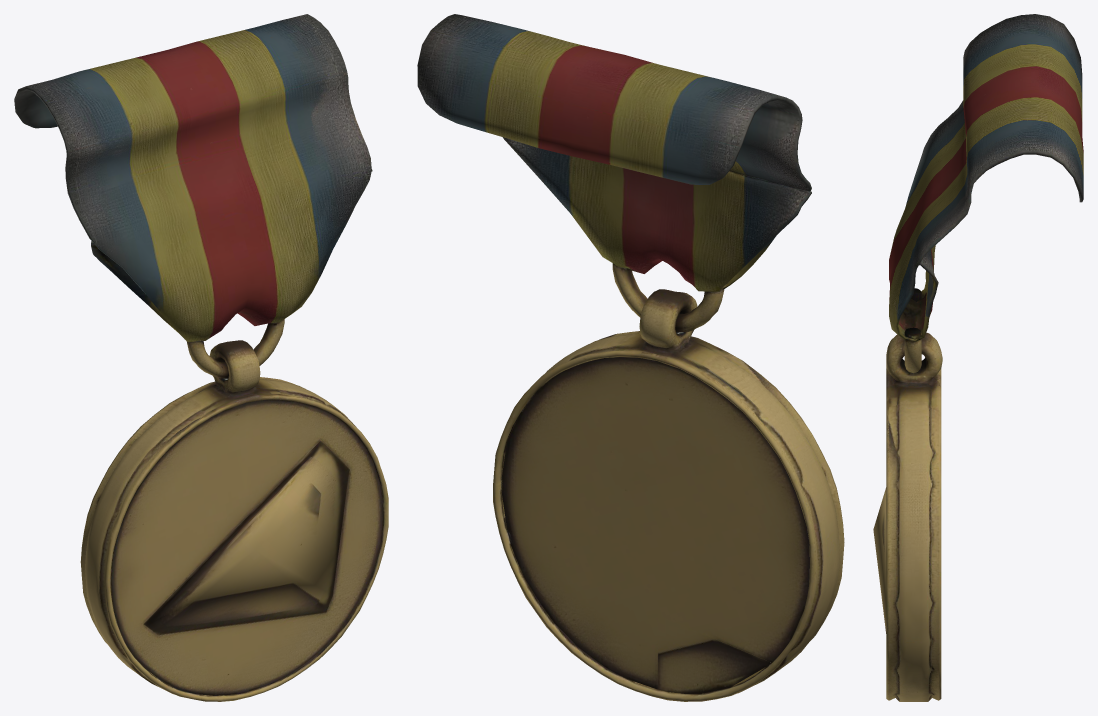
File: selected.glb
3 views of the same model, side by side, from view 1: azimuth 30°, elevation 25°; view 2: azimuth 150°, elevation 25°; view 3: azimuth 270°, elevation 25° (orthographic). The views are drawn at different scales.
Parts seen in each view (by area): view 1: tripo_node_3bc91f0a-8876-4d93-b8fb-235e316ece1b; view 2: tripo_node_3bc91f0a-8876-4d93-b8fb-235e316ece1b; view 3: tripo_node_3bc91f0a-8876-4d93-b8fb-235e316ece1b.
Boxes of the visible parts, x1=… form: tripo_node_3bc91f0a-8876-4d93-b8fb-235e316ece1b: x1=14, y1=14, x2=388, y2=701; tripo_node_3bc91f0a-8876-4d93-b8fb-235e316ece1b: x1=417, y1=14, x2=844, y2=701; tripo_node_3bc91f0a-8876-4d93-b8fb-235e316ece1b: x1=873, y1=14, x2=1083, y2=701.
Size of the model in its own units: 0.5059 by 0.998 by 0.3145.
1 material, 1 textured.
